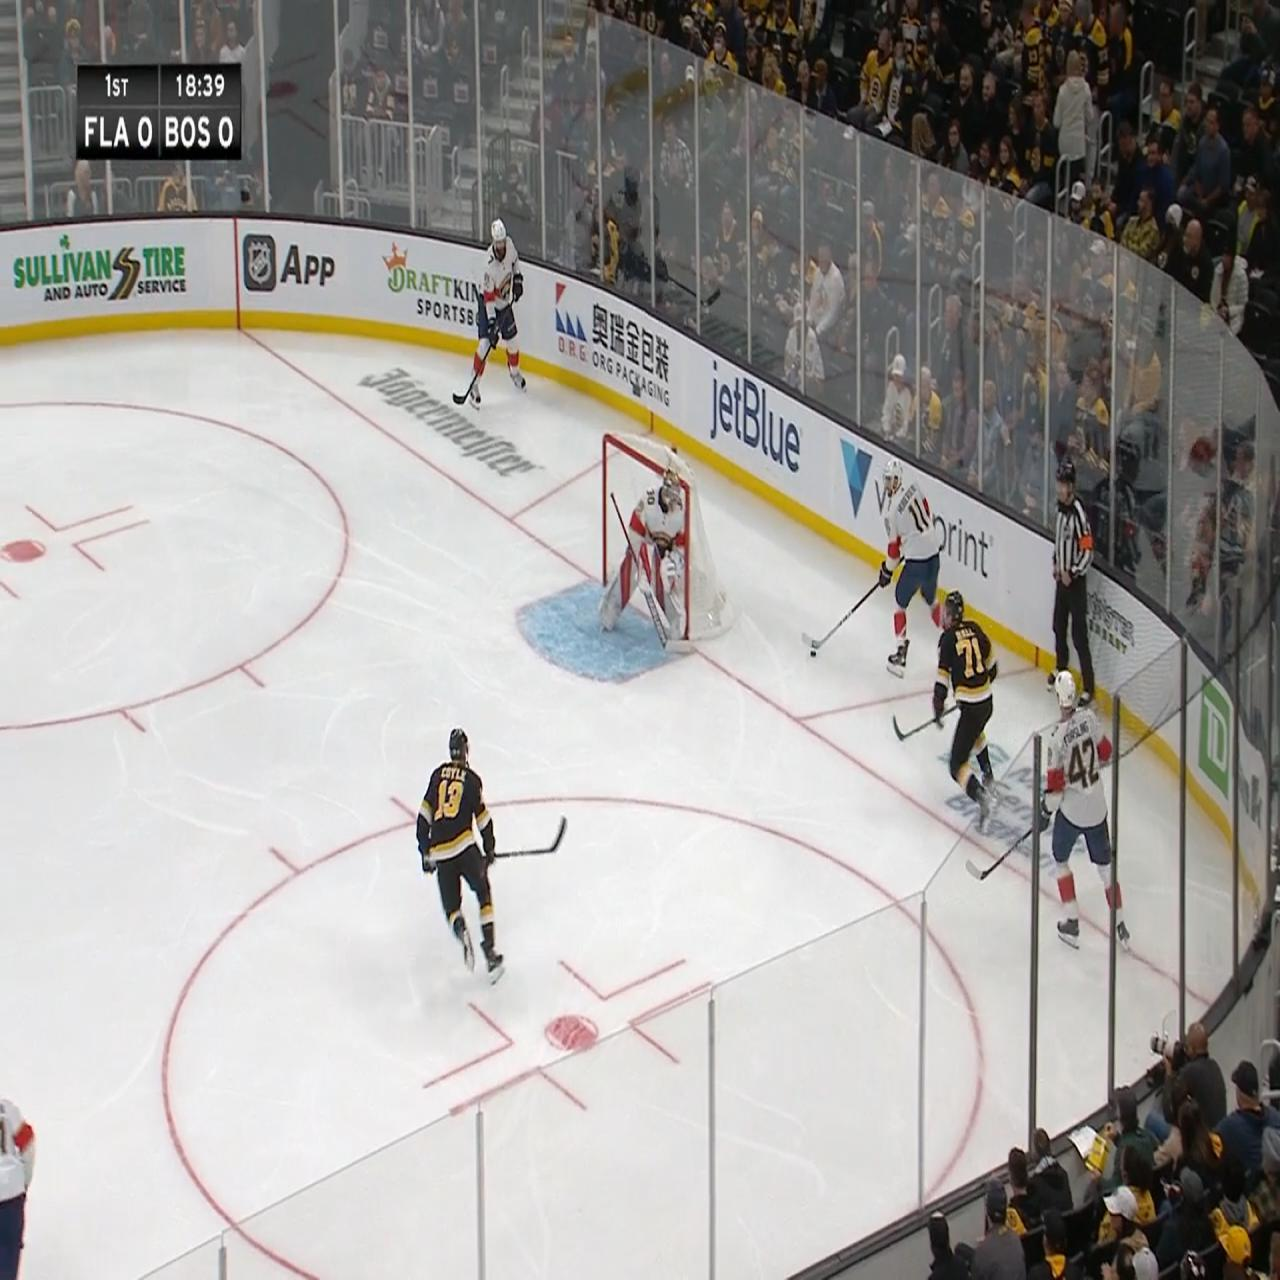Ad: (837, 429, 993, 577), (553, 275, 673, 409), (1194, 661, 1266, 867), (14, 230, 192, 304), (710, 355, 809, 484), (377, 239, 486, 328), (239, 225, 342, 306), (1077, 591, 1148, 663)
